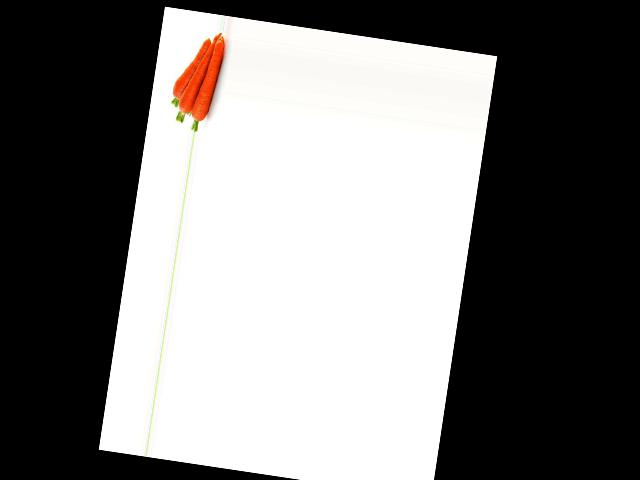carrot: (192, 34, 224, 128)
